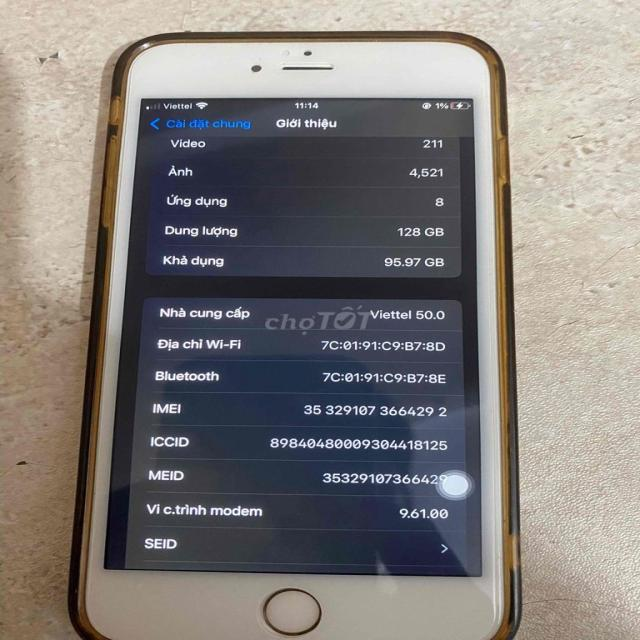gen_6: (73, 33, 518, 639)
